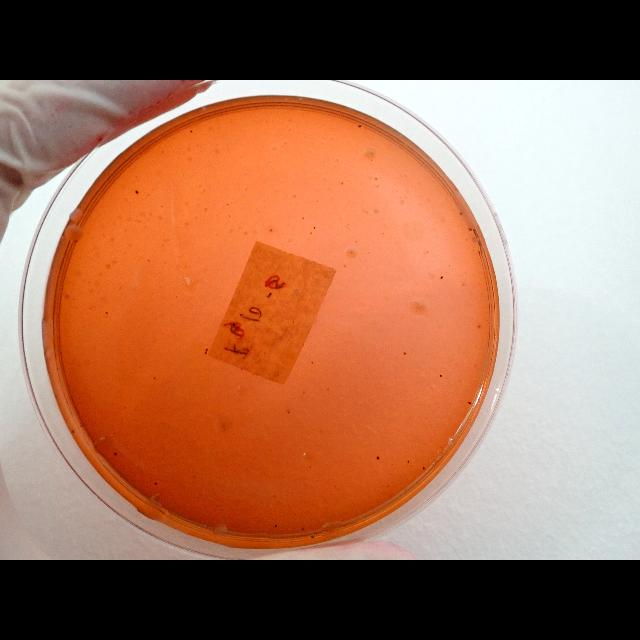colony: (458, 210, 464, 216), (301, 526, 305, 532), (310, 535, 316, 539), (134, 190, 140, 194), (440, 274, 444, 280), (403, 352, 407, 356), (468, 401, 472, 405), (274, 524, 278, 528), (154, 482, 158, 486), (113, 451, 117, 455), (71, 430, 75, 434), (358, 124, 362, 128), (468, 227, 472, 231), (269, 228, 273, 232), (310, 361, 314, 365), (406, 460, 409, 464), (422, 466, 426, 469), (376, 456, 379, 460), (105, 311, 108, 315), (232, 323, 235, 327), (341, 181, 344, 185), (440, 374, 442, 378), (190, 129, 192, 133), (206, 348, 208, 352), (310, 231, 312, 235), (374, 178, 378, 180), (313, 227, 315, 230), (302, 217, 304, 220), (316, 200, 318, 203), (462, 284, 464, 286), (205, 352, 207, 354)
